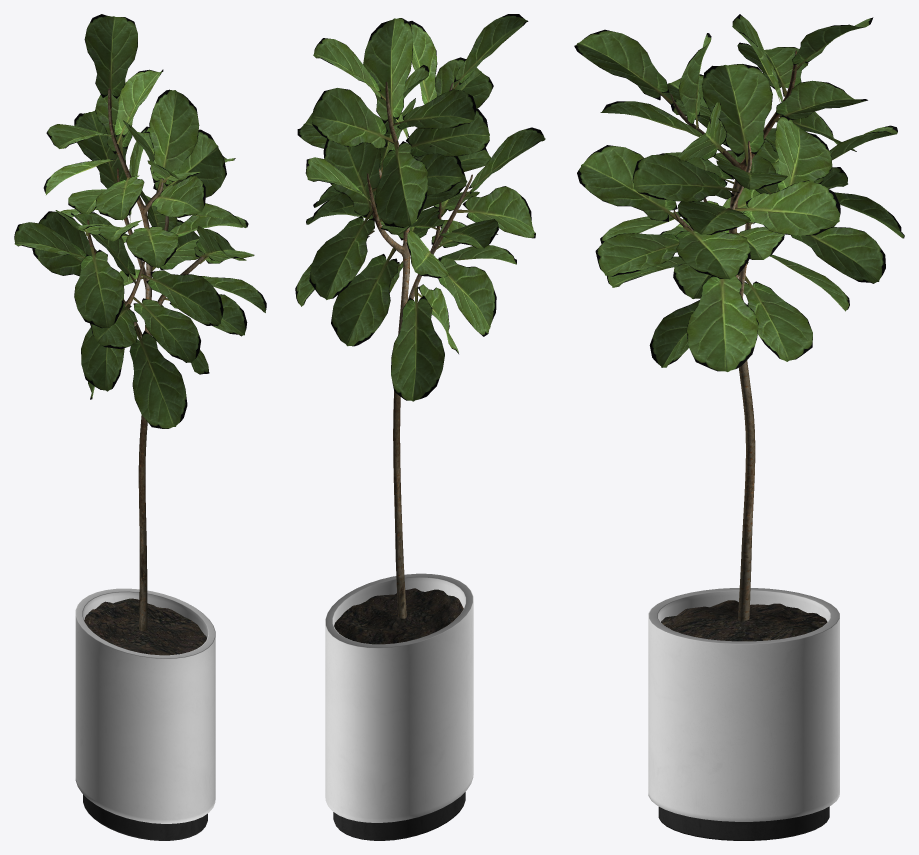
The model's file is maceta.glb.
3 views of the same model, side by side, from view 1: azimuth 30°, elevation 25°; view 2: azimuth 150°, elevation 25°; view 3: azimuth 270°, elevation 25° (orthographic). The views are drawn at different scales.
Parts seen in each view (by area): view 1: Object_8, Object_6, Object_10; view 2: Object_8, Object_6, Object_10; view 3: Object_8, Object_6, Object_10.
Part boxes in pixels (x1,y1,x2,y2): Object_8: (14, 14, 266, 428); Object_6: (75, 588, 215, 840); Object_10: (87, 88, 204, 631); Object_8: (295, 14, 545, 401); Object_6: (325, 573, 473, 840); Object_10: (367, 81, 472, 618); Object_8: (574, 14, 904, 371); Object_6: (648, 588, 839, 840); Object_10: (670, 50, 797, 621).
Bounding box in the file's own units: 71.06 × 260 × 96.55.
Materials: 3 (3 with a texture image).
